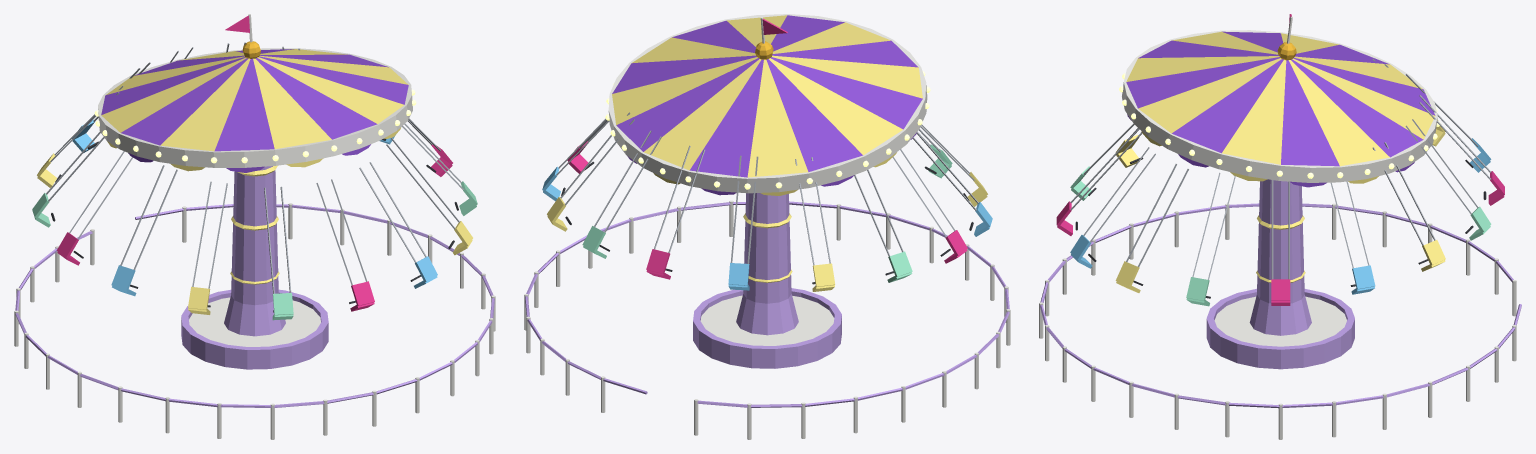
Rendered from SwingRide.fbx.
The picture shows the model from 3 angles, left to right: view 1: azimuth 30°, elevation 25°; view 2: azimuth 150°, elevation 25°; view 3: azimuth 270°, elevation 25°; orthographic projection.
Visible parts, largest first — view 1: SwingRide_Lilac, SwingRide_Lemon, SwingRide_White, SwingRide_Purple, SwingRide_Metal, SwingRide_HotPink, SwingRide_SkyBlue, SwingRide_Mint, SwingRide_NeonYellow; view 2: SwingRide_Lemon, SwingRide_Purple, SwingRide_Lilac, SwingRide_White, SwingRide_Metal, SwingRide_HotPink, SwingRide_Mint, SwingRide_SkyBlue, SwingRide_NeonYellow; view 3: SwingRide_Lemon, SwingRide_Purple, SwingRide_Lilac, SwingRide_White, SwingRide_Metal, SwingRide_HotPink, SwingRide_Mint, SwingRide_SkyBlue, SwingRide_NeonYellow.
Boxes of the visible parts, left/top/right/bottom form: SwingRide_Lilac: left=15, top=166, right=494, bottom=407; SwingRide_Lemon: left=37, top=49, right=472, bottom=314; SwingRide_White: left=14, top=14, right=495, bottom=439; SwingRide_Purple: left=101, top=49, right=408, bottom=172; SwingRide_Metal: left=46, top=42, right=463, bottom=293; SwingRide_HotPink: left=57, top=15, right=452, bottom=311; SwingRide_SkyBlue: left=72, top=119, right=437, bottom=296; SwingRide_Mint: left=32, top=181, right=477, bottom=320; SwingRide_NeonYellow: left=94, top=89, right=416, bottom=163; SwingRide_Lemon: left=547, top=15, right=987, bottom=291; SwingRide_Purple: left=612, top=15, right=922, bottom=195; SwingRide_Lilac: left=525, top=193, right=1009, bottom=407; SwingRide_White: left=524, top=14, right=1010, bottom=439; SwingRide_Metal: left=556, top=112, right=978, bottom=265; SwingRide_HotPink: left=567, top=19, right=967, bottom=279; SwingRide_Mint: left=582, top=144, right=952, bottom=282; SwingRide_SkyBlue: left=542, top=166, right=992, bottom=290; SwingRide_NeonYellow: left=605, top=71, right=930, bottom=189; SwingRide_Lemon: left=1115, top=31, right=1445, bottom=292; SwingRide_Purple: left=1126, top=31, right=1435, bottom=187; SwingRide_Lilac: left=1040, top=179, right=1521, bottom=408; SwingRide_White: left=1039, top=16, right=1516, bottom=439; SwingRide_Metal: left=1070, top=59, right=1490, bottom=279; SwingRide_HotPink: left=1056, top=14, right=1504, bottom=305; SwingRide_Mint: left=1070, top=166, right=1491, bottom=306; SwingRide_SkyBlue: left=1070, top=138, right=1491, bottom=294; SwingRide_NeonYellow: left=1119, top=73, right=1440, bottom=178.
Size of the model in its own units: 40.31 by 29.56 by 40.3.
